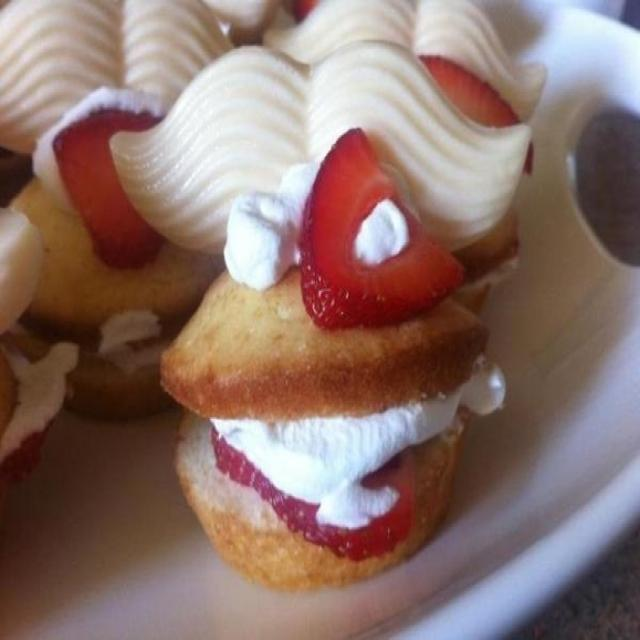蛋糕甜品: (18, 7, 572, 594)
